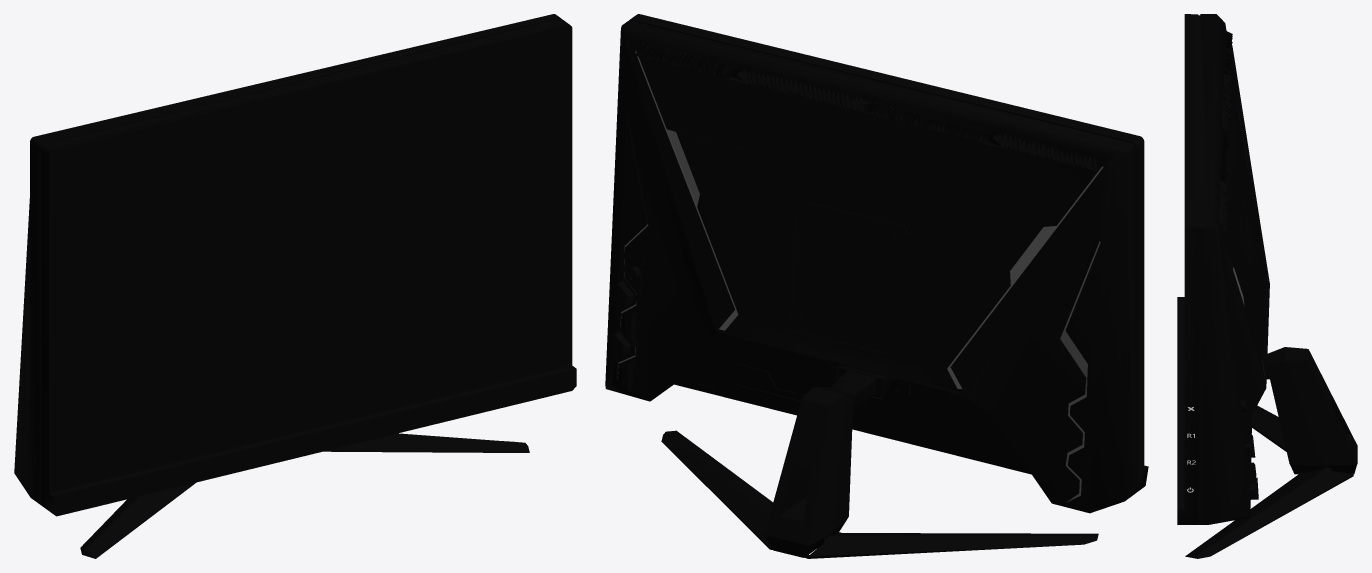
File: mon-asus-xg27acs_lod2.glb
3 renders of one model, left to right at view 1: azimuth 30°, elevation 25°; view 2: azimuth 150°, elevation 25°; view 3: azimuth 270°, elevation 25°, orthographic. The views are drawn at different scales.
Visible parts, largest first — view 1: body; view 2: body; view 3: body.
Part boxes in pixels (x1=…): body: x1=14, y1=14, x2=576, y2=558; body: x1=605, y1=14, x2=1148, y2=558; body: x1=1177, y1=14, x2=1357, y2=558.
Bounding box in the file's own units: 0.6145 × 0.47 × 0.22.
5 materials, 1 textured.
